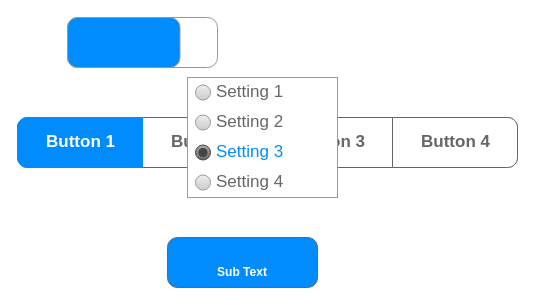
The diagram is 535 pixels wide and 305 high, and some of its shapes have lost their labels. The box of each missing label's shape, as (x1, y1, x2, y2) in pixels:
Main Text: (166, 244, 318, 266)
ON: (66, 16, 218, 68)
